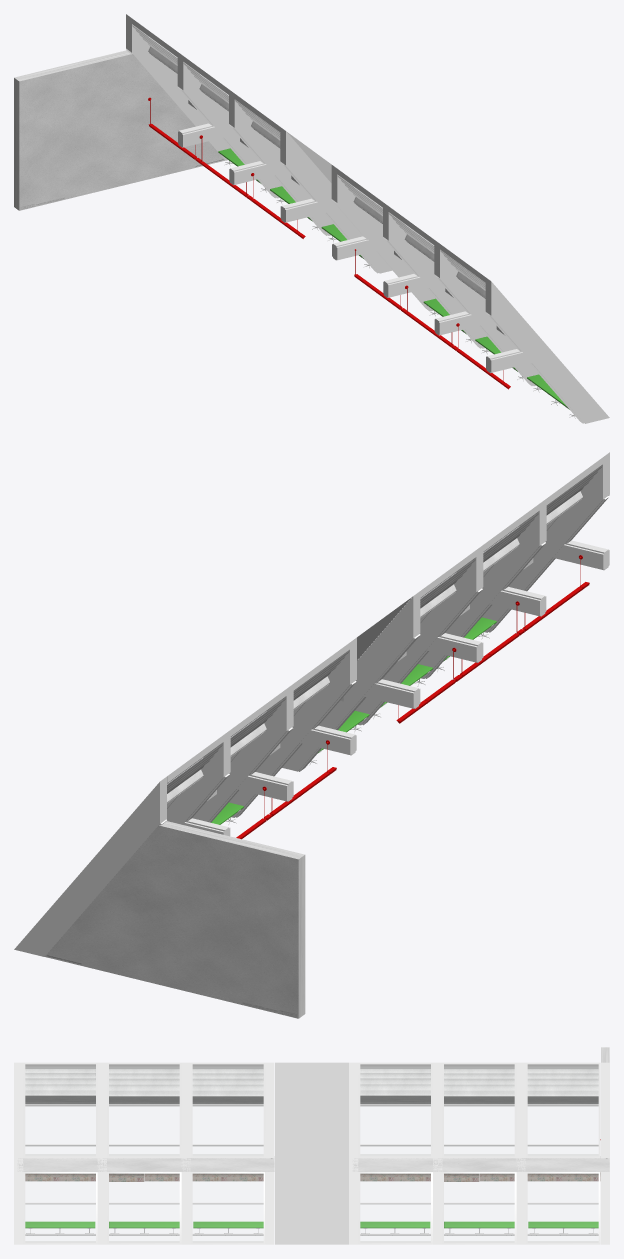
File: Office_Background.fbx
3 views of the same model, one above another, from view 1: azimuth 30°, elevation 25°; view 2: azimuth 150°, elevation 25°; view 3: azimuth 270°, elevation 25° (orthographic). The views are drawn at different scales.
Parts seen in each view (by area): view 1: polySurface2, Multiplable1, Multiplable, polySurface4, polySurface3, Hanging (×2), 窗帘下06 (×2), 窗帘下04 (×2), 窗帘下05 (×2); view 2: polySurface2, Multiplable1, Multiplable, polySurface3, polySurface4, 窗帘下06 (×2), 窗帘下05 (×2), 窗帘下04 (×2), Hanging; view 3: RightPanel, 图层1.19 (×2), 图层1.20 (×2), 图层1.14 (×2), Multiplable, Multiplable1, 图层2.06 (×2), 图层2.07 (×2), 图层2.08 (×2), CenterAxis (×2), 窗帘下05 (×2), 窗帘下06 (×2) (+18 smaller).
Part boxes in pixels (x1=…): polySurface2: x1=14, y1=50, x2=224, y2=210; Multiplable1: x1=332, y1=169, x2=609, y2=423; Multiplable: x1=132, y1=18, x2=392, y2=273; polySurface4: x1=331, y1=165, x2=435, y2=311; polySurface3: x1=126, y1=14, x2=229, y2=160; Hanging (×2): x1=148, y1=123, x2=510, y2=389; 窗帘下06 (×2): x1=235, y1=100, x2=485, y2=298; 窗帘下04 (×2): x1=183, y1=63, x2=434, y2=261; 窗帘下05 (×2): x1=132, y1=25, x2=382, y2=223; polySurface2: x1=45, y1=821, x2=305, y2=1018; Multiplable1: x1=355, y1=452, x2=609, y2=725; Multiplable: x1=166, y1=637, x2=356, y2=836; polySurface3: x1=14, y1=776, x2=167, y2=956; polySurface4: x1=282, y1=591, x2=420, y2=771; 窗帘下06 (×2): x1=293, y1=465, x2=602, y2=710; 窗帘下05 (×2): x1=167, y1=558, x2=476, y2=803; 窗帘下04 (×2): x1=230, y1=512, x2=539, y2=756; Hanging: x1=396, y1=582, x2=589, y2=723; RightPanel: x1=275, y1=1062, x2=348, y2=1244; 图层1.19 (×2): x1=109, y1=1067, x2=513, y2=1154; 图层1.20 (×2): x1=193, y1=1067, x2=597, y2=1154; 图层1.14 (×2): x1=26, y1=1067, x2=430, y2=1154; Multiplable: x1=349, y1=1062, x2=600, y2=1244; Multiplable1: x1=14, y1=1062, x2=265, y2=1244; 图层2.06 (×2): x1=193, y1=1174, x2=597, y2=1241; 图层2.07 (×2): x1=109, y1=1174, x2=513, y2=1241; 图层2.08 (×2): x1=26, y1=1174, x2=430, y2=1241; CenterAxis (×2): x1=17, y1=1156, x2=609, y2=1171; 窗帘下05 (×2): x1=192, y1=1069, x2=598, y2=1104; 窗帘下06 (×2): x1=25, y1=1069, x2=430, y2=1104.
Bounding box in the file's own units: 1168 × 803 × 3201.
